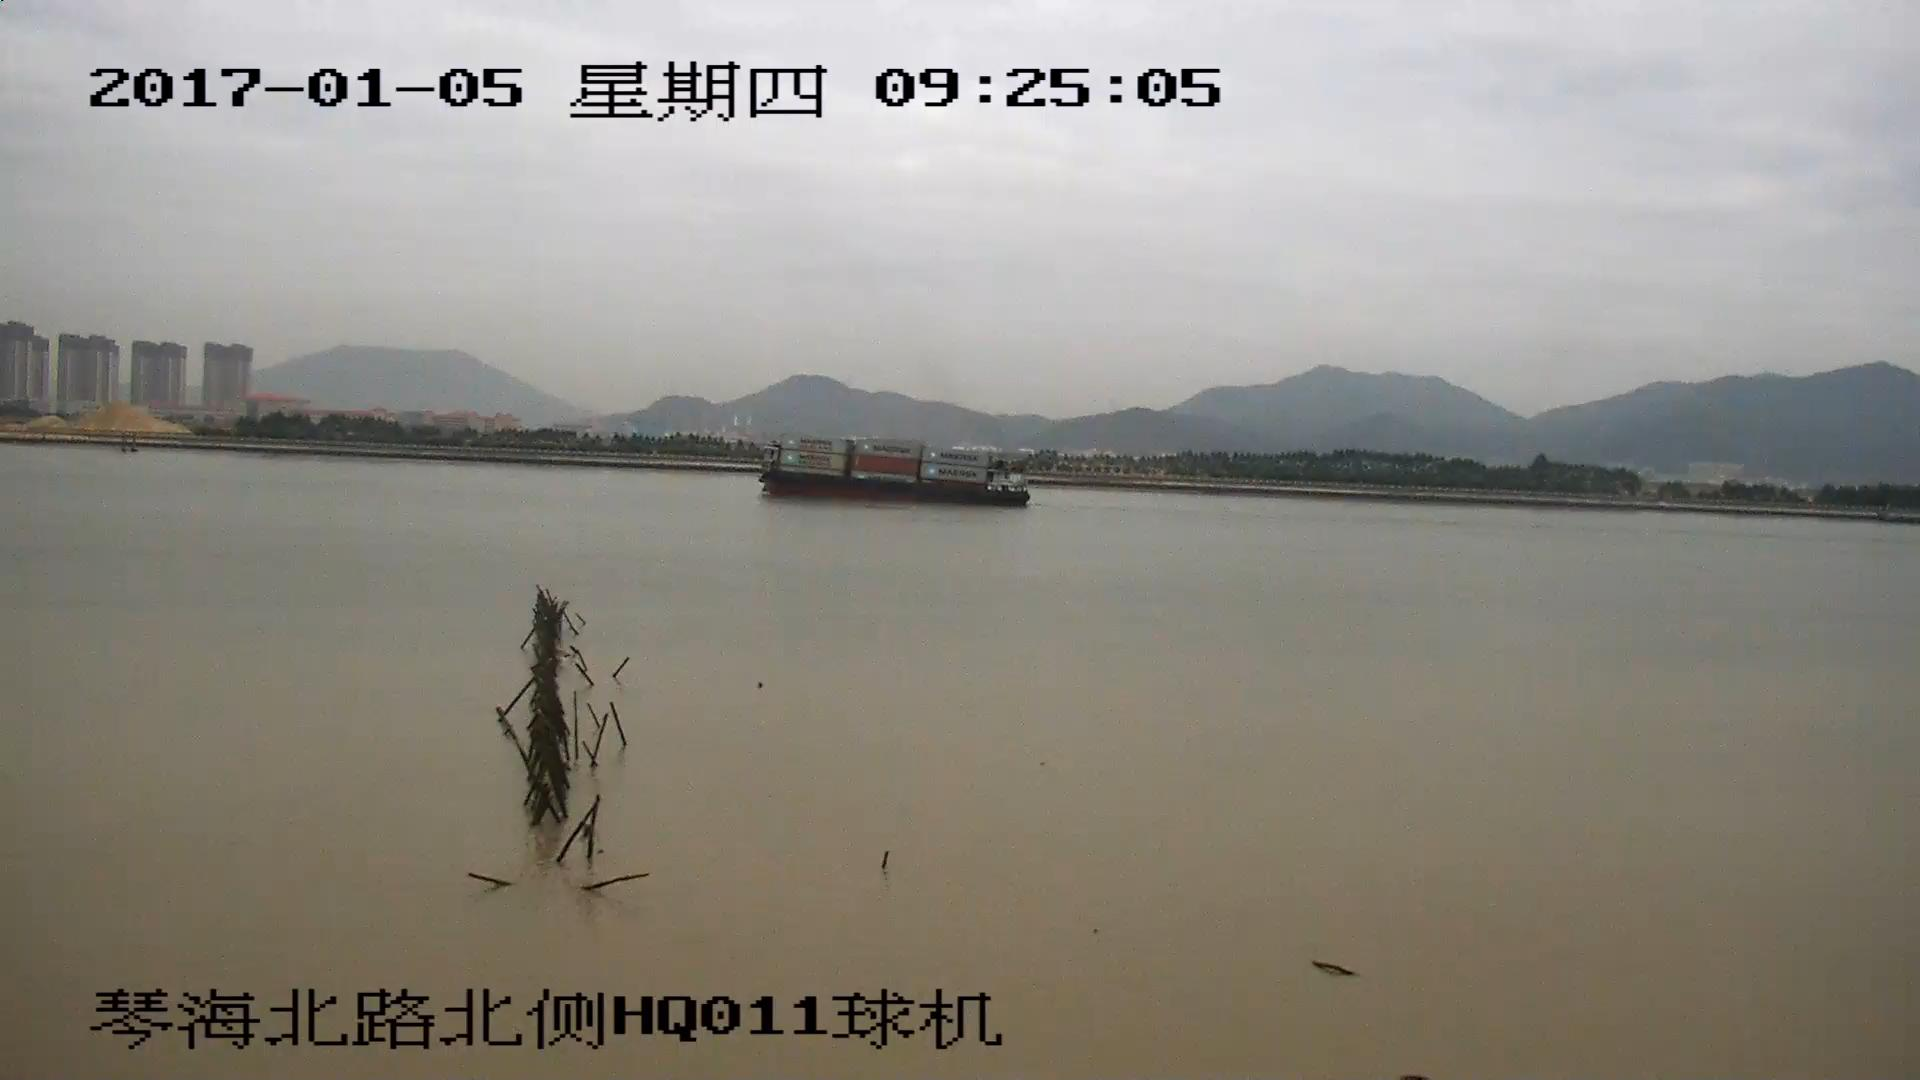container ship: (754, 439, 1025, 505)
